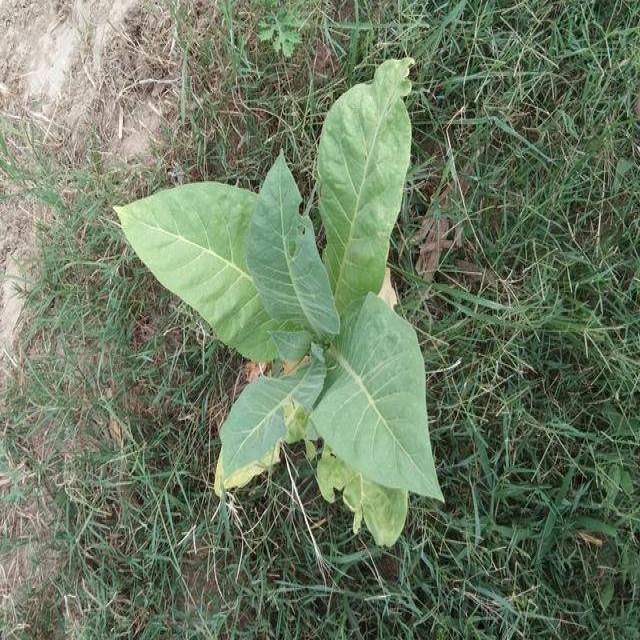crop: (110, 45, 453, 548)
